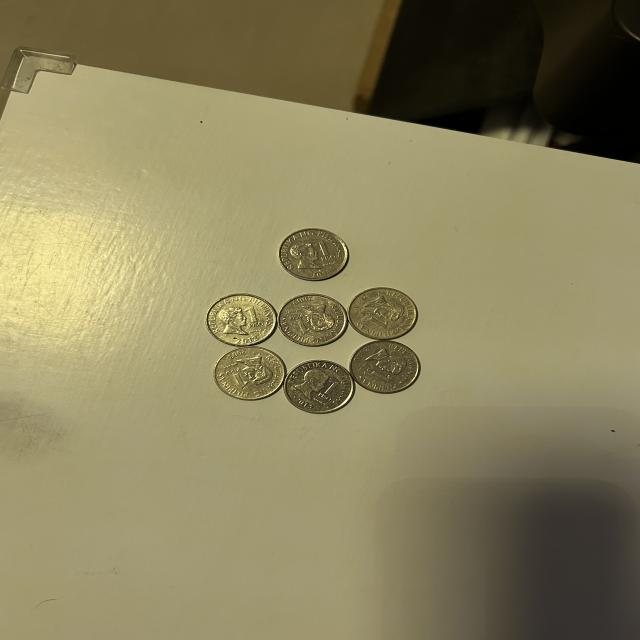1_Old_Front: (360, 360, 394, 387), (311, 239, 344, 266), (284, 309, 312, 338), (240, 306, 266, 333), (224, 367, 250, 392), (316, 376, 339, 403)
